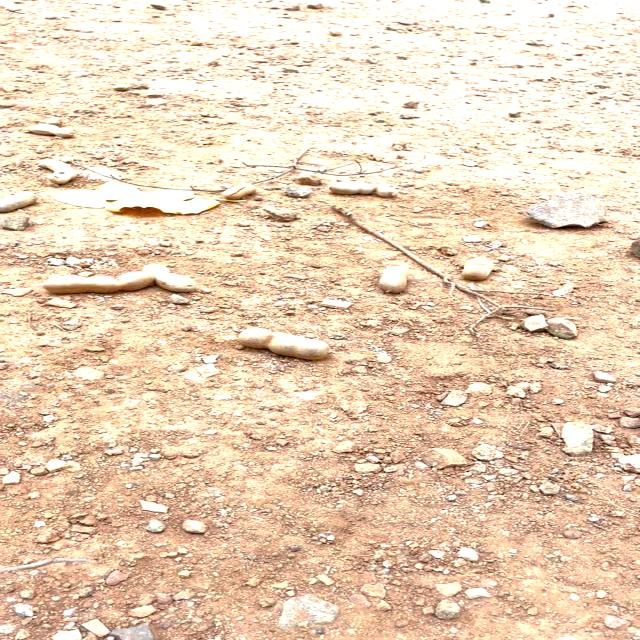tamarind: (232, 329, 339, 362), (42, 268, 158, 298), (323, 179, 402, 203), (147, 260, 195, 297), (38, 154, 80, 186), (462, 252, 500, 284), (24, 122, 81, 140), (381, 258, 407, 296), (0, 190, 39, 210), (214, 182, 256, 200)
